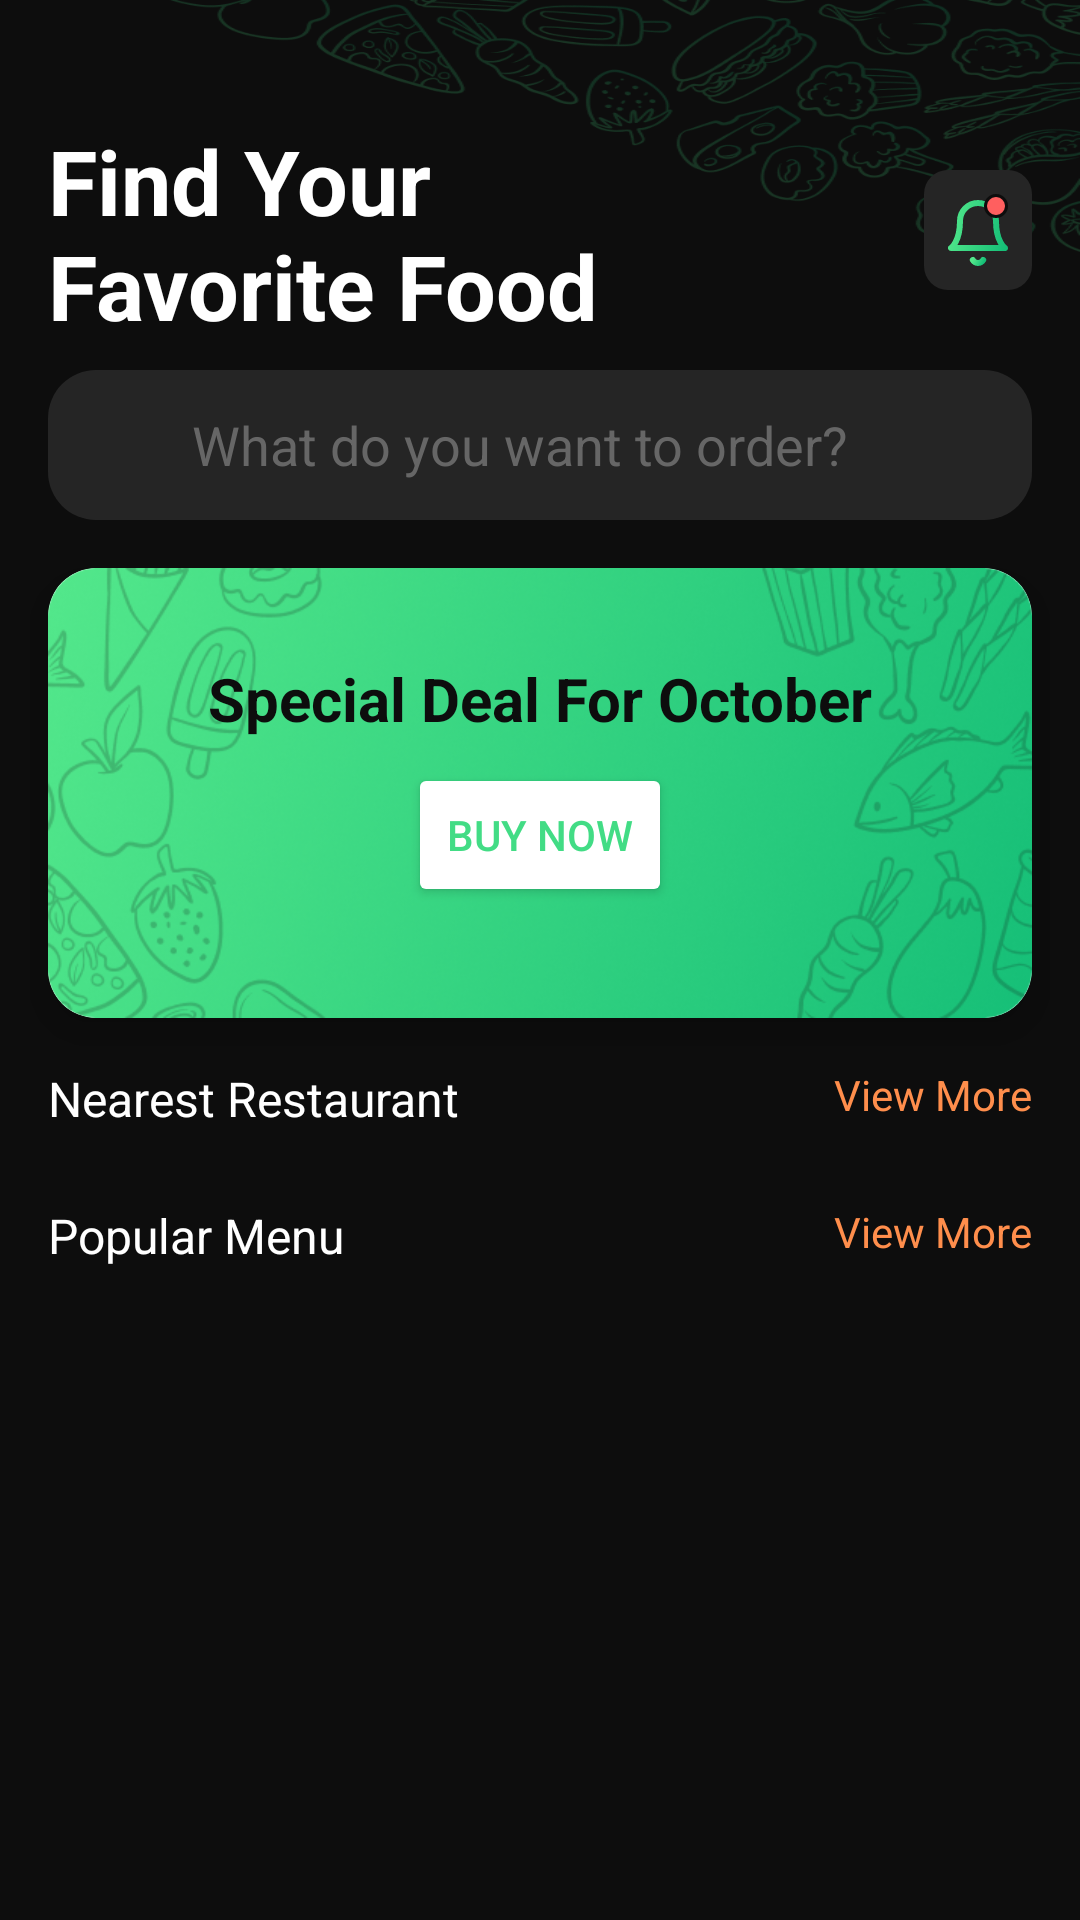

Screen size 1080px x 1920px. Icon name, then its center in pixels as (x,y):
notifiaction: (978,230)
